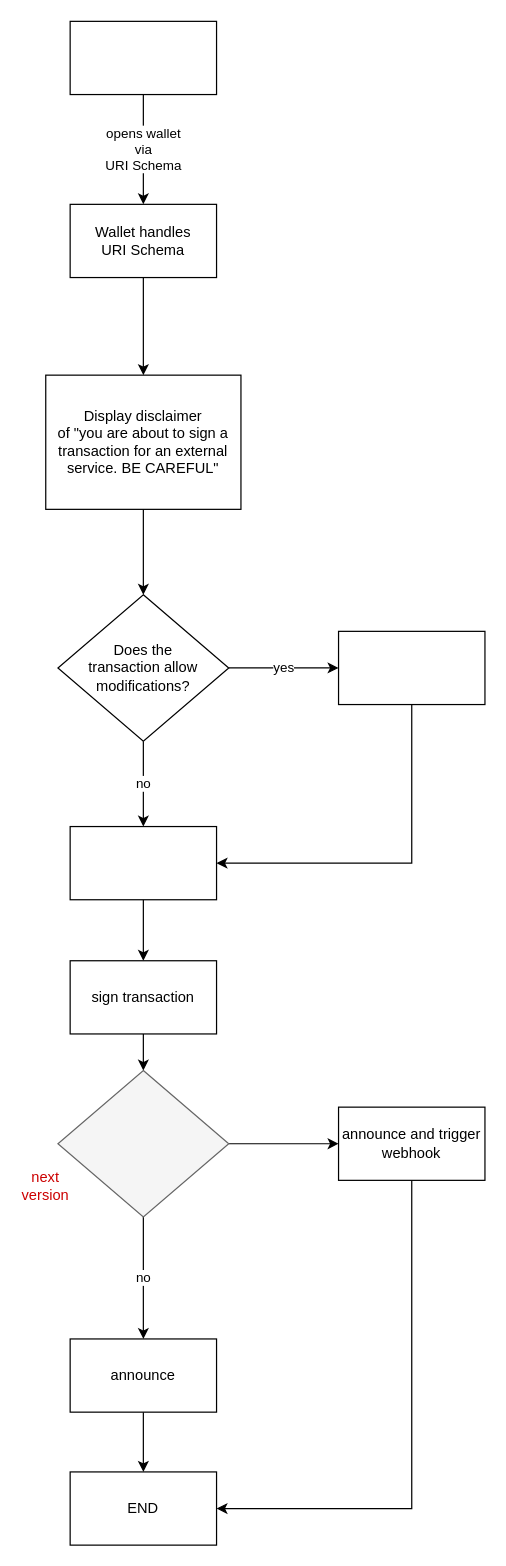
This 506x1566 diagram has some shape labels left out. The centre of each missing label's shape, as x and y in pixels:
"Change values like amount send given a mosaic" belongs at point (411, 667).
"confirm you want to sign your transaction" belongs at point (143, 862).
"has transaction a webhook url to send the transaction hash?" belongs at point (143, 1143).
"WebApp" belongs at point (143, 57).
